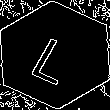L_NE: (27, 25, 83, 85)
